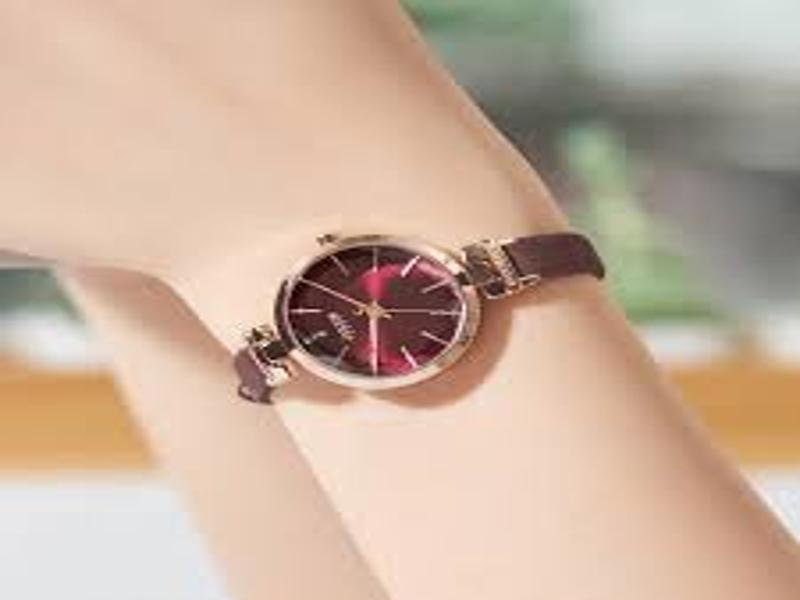watch: (227, 222, 609, 405)
